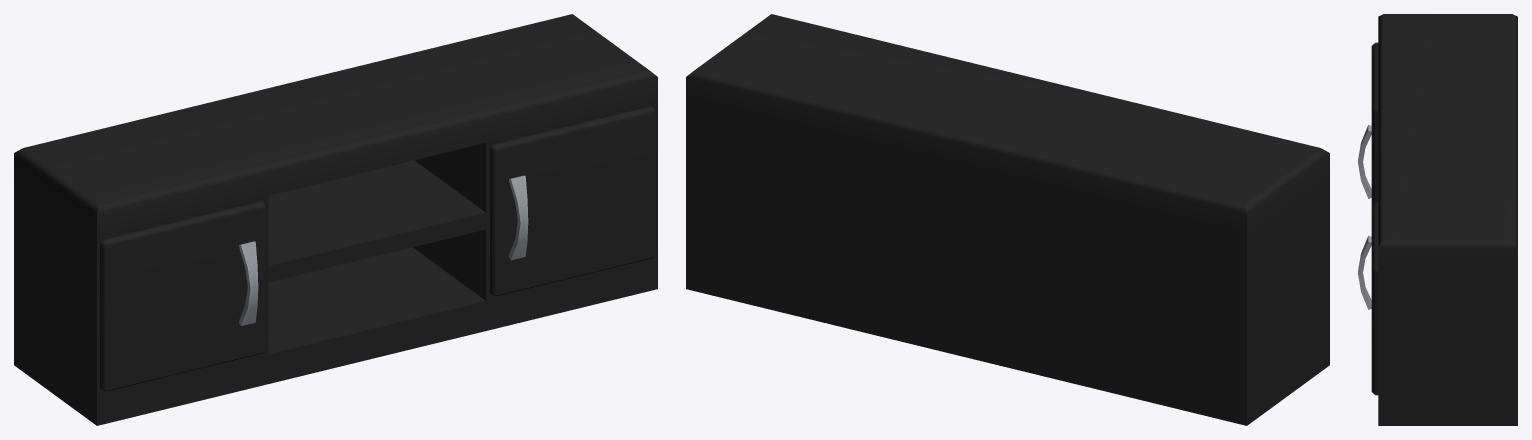
The model's file is wall_cabinet_033.fbx.
3 renders of one model, left to right at view 1: azimuth 30°, elevation 25°; view 2: azimuth 150°, elevation 25°; view 3: azimuth 270°, elevation 25°, orthographic. The views are drawn at different scales.
Parts seen in each view (by area): view 1: wall_cabinet_033; view 2: wall_cabinet_033; view 3: wall_cabinet_033.
Part boxes in pixels (x1,y1,x2,y2): wall_cabinet_033: (14,14,657,425); wall_cabinet_033: (686,14,1329,425); wall_cabinet_033: (1358,14,1517,425).
Bounding box in the file's own units: 208 × 60.85 × 77.17.
